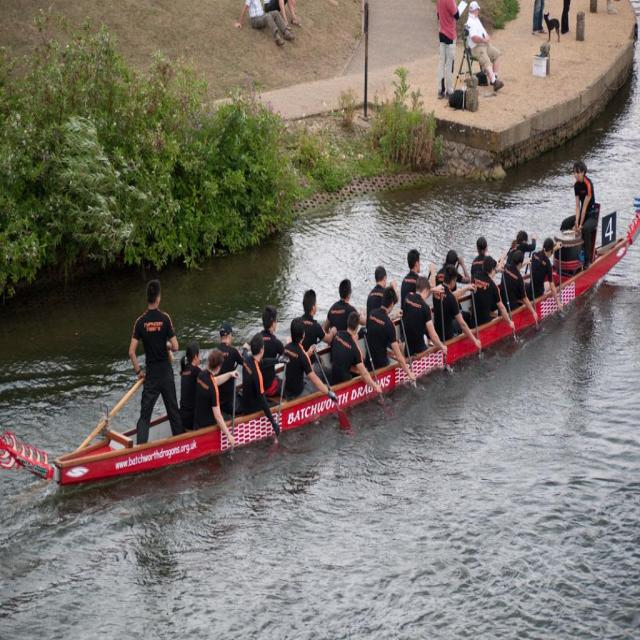Boat: (0, 198, 640, 496)
